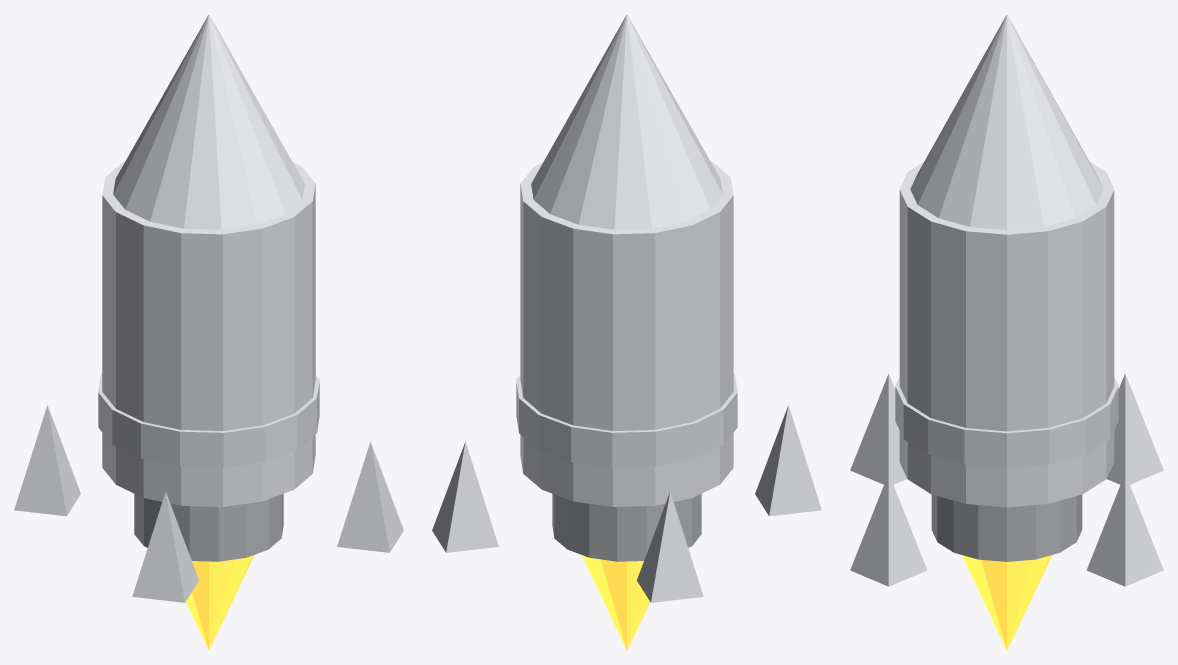
File: throne_rocket.glb
3 views of the same model, side by side, from view 1: azimuth 30°, elevation 25°; view 2: azimuth 150°, elevation 25°; view 3: azimuth 270°, elevation 25° (orthographic).
Visible parts, largest first — view 1: ThroneRocket; view 2: ThroneRocket; view 3: ThroneRocket.
Part boxes in pixels (x1,y1,x2,y2): ThroneRocket: (14, 14, 403, 650); ThroneRocket: (432, 14, 821, 650); ThroneRocket: (850, 14, 1163, 650).
Bounding box in the file's own units: 1.46 × 3.27 × 1.46.
